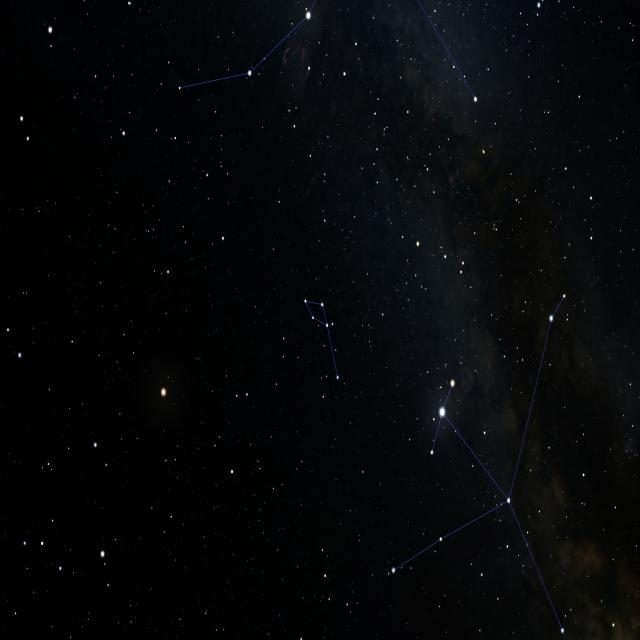Delphinus: (301, 295, 342, 385)
